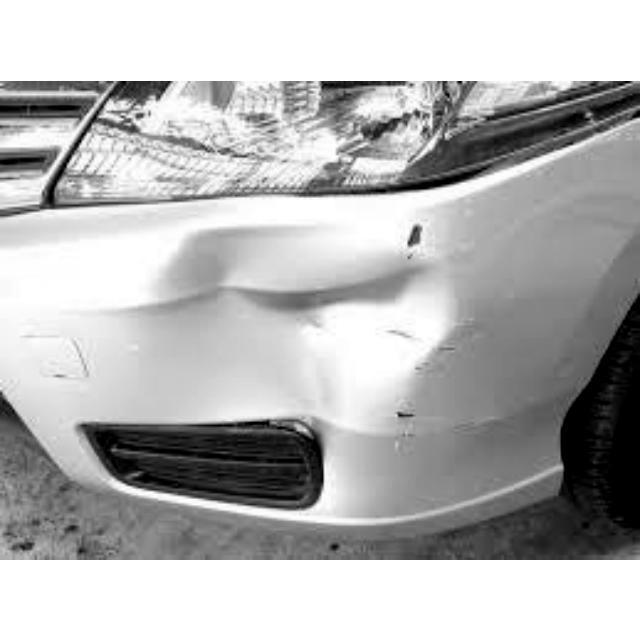front-bumper-dent: (84, 217, 518, 540)
